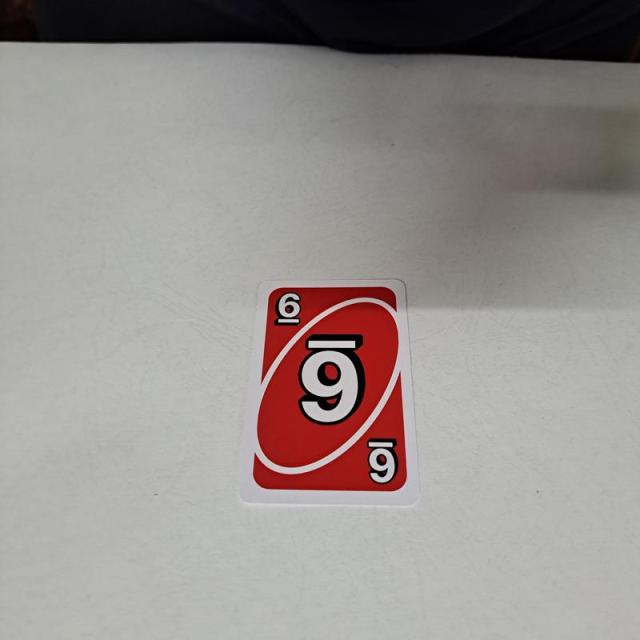Number_6: (275, 291, 301, 329)
Red_Card: (246, 279, 414, 497)
